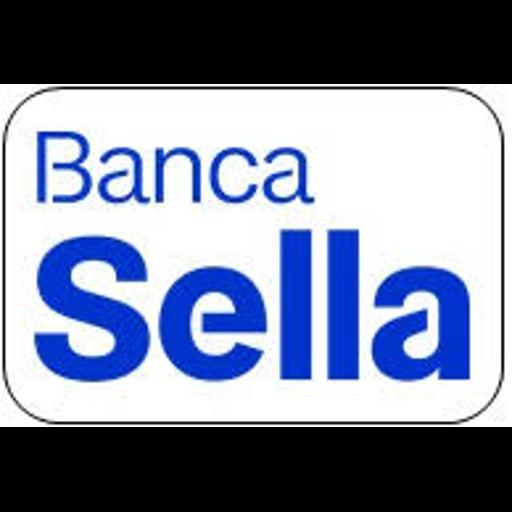Banca Sella: (0, 84, 512, 427)
